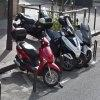Motorcycle: (11, 23, 71, 91)
